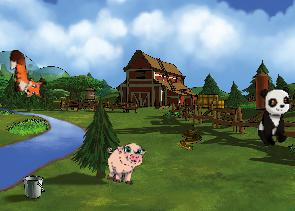fox: (7, 47, 48, 102)
panda: (257, 86, 291, 147)
pig: (102, 139, 147, 187)
